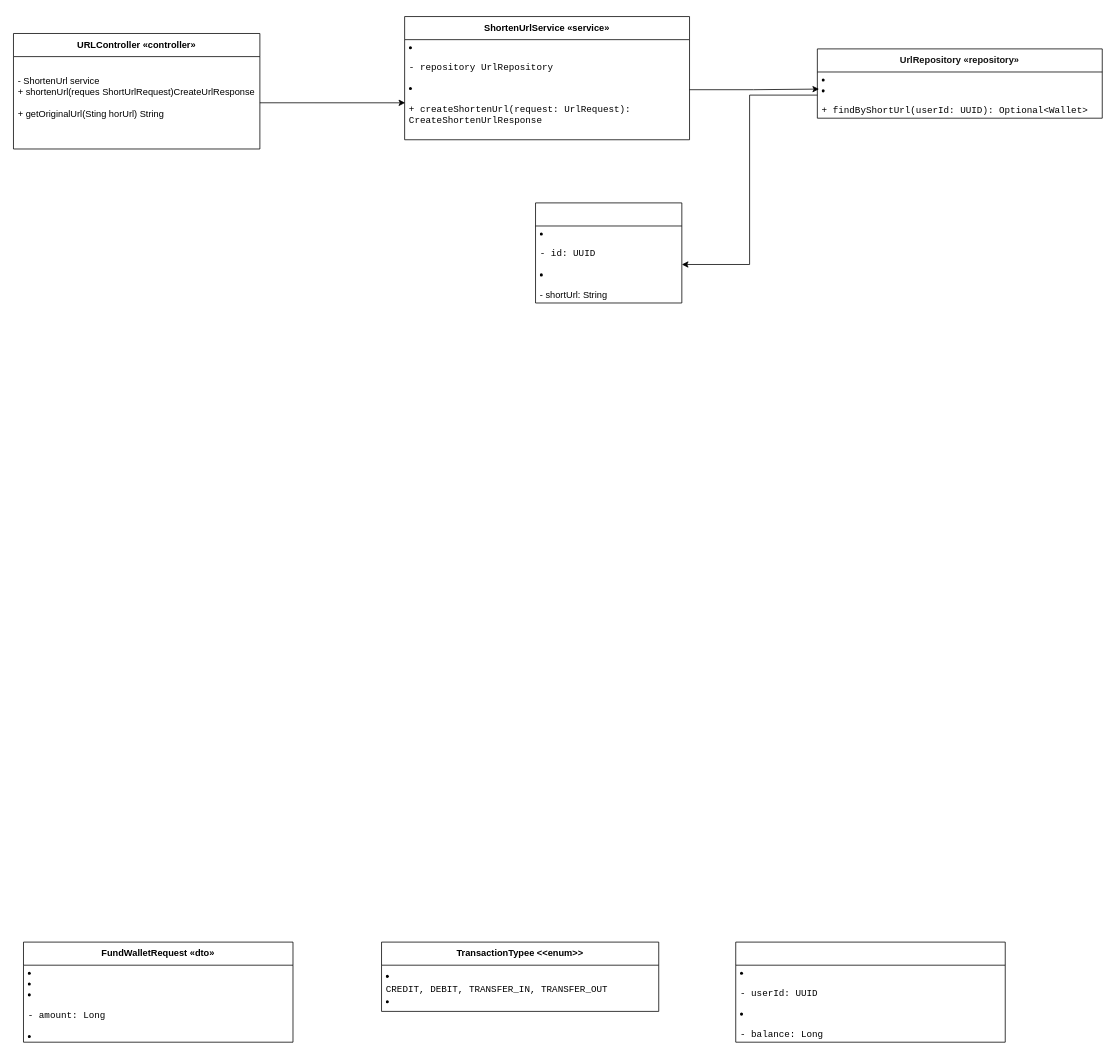
The diagram is 1116 pixels wide and 1056 high, and some of its shapes have lost their labels. The box of each missing label's shape, as (x1, y1, x2, y2) in pixels:
BalanceResponse «dto»: (735, 941, 1005, 1042)
Url «entity»: (535, 202, 682, 303)
